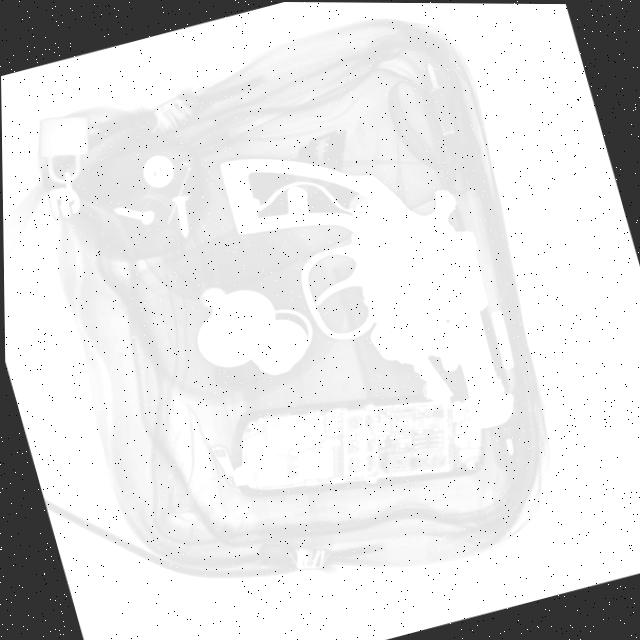pistol: (212, 101, 525, 478)
